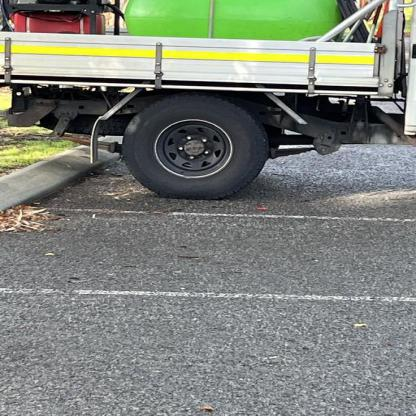Tire: (120, 96, 268, 199)
